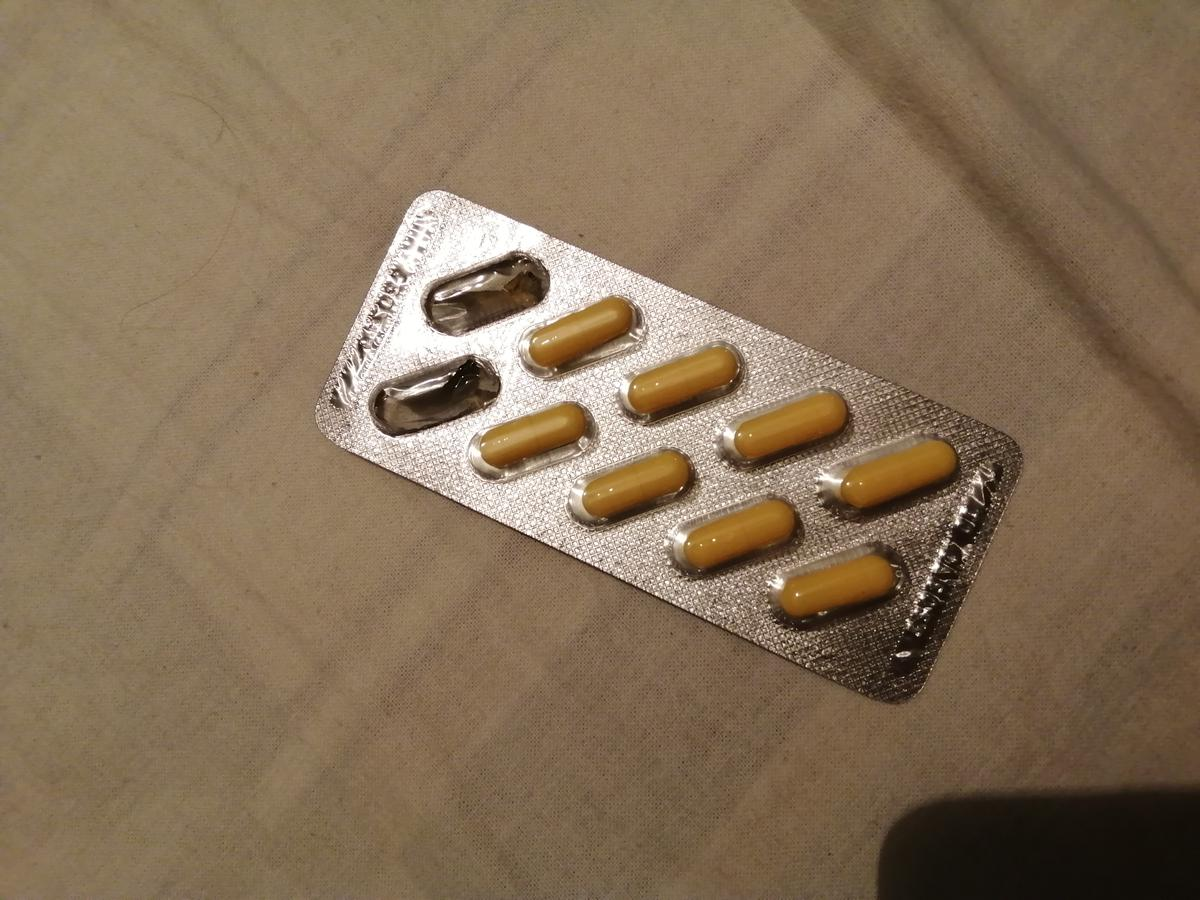capsule: (680, 492, 797, 573), (526, 294, 638, 372), (837, 437, 958, 507), (782, 550, 901, 617), (478, 401, 593, 470), (733, 387, 848, 456), (579, 447, 691, 516), (632, 344, 741, 410)
